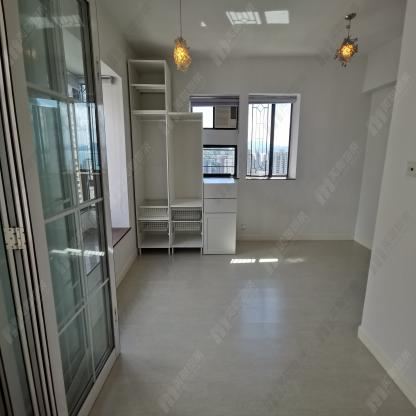AC: (214, 106, 237, 129)
Cupboard: (203, 178, 238, 256)
